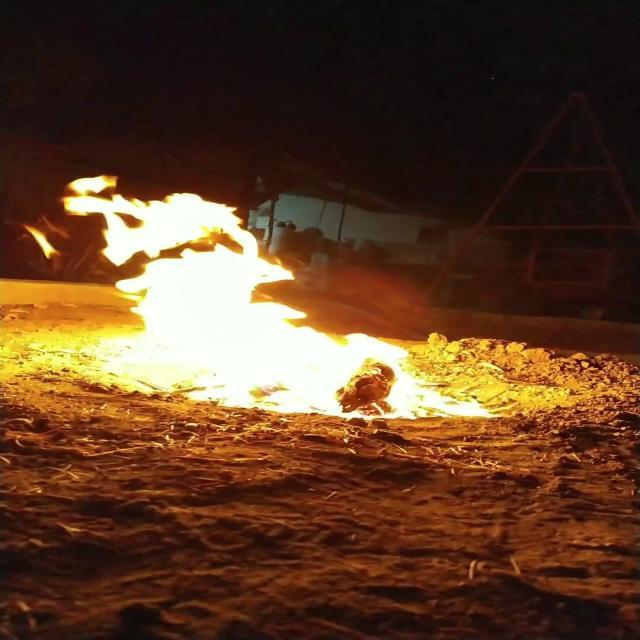Fire: (18, 165, 496, 408)
